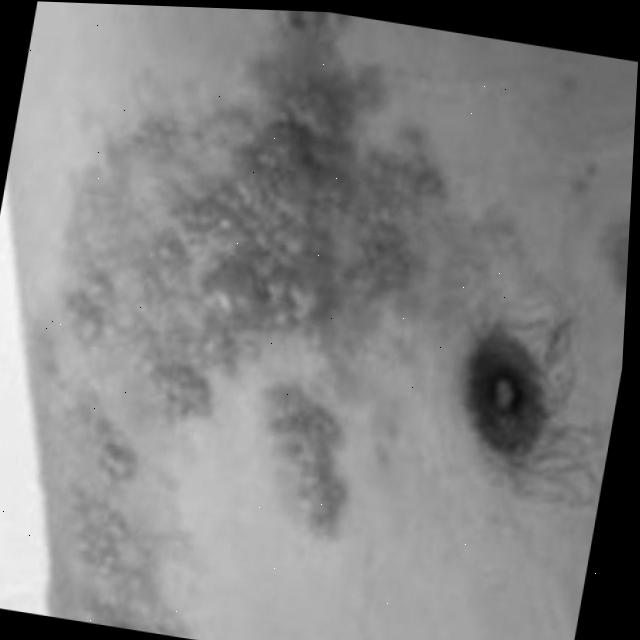Shingles: (0, 46, 455, 640)
